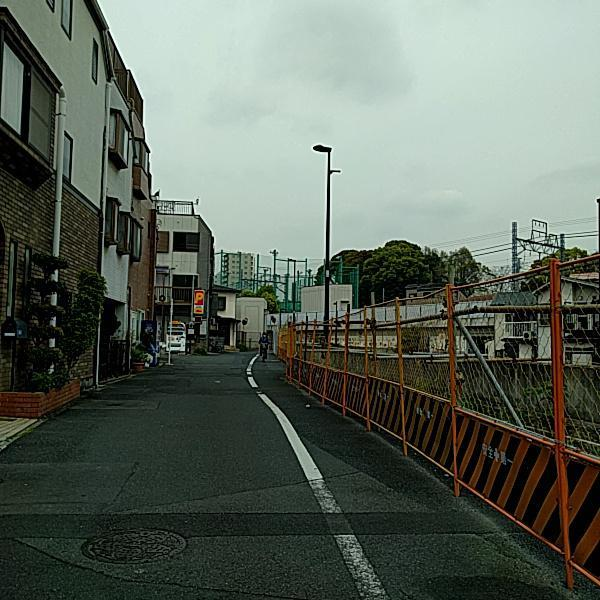D00: (103, 459, 138, 509)
D44: (290, 426, 397, 598)
D50: (78, 524, 191, 569)
